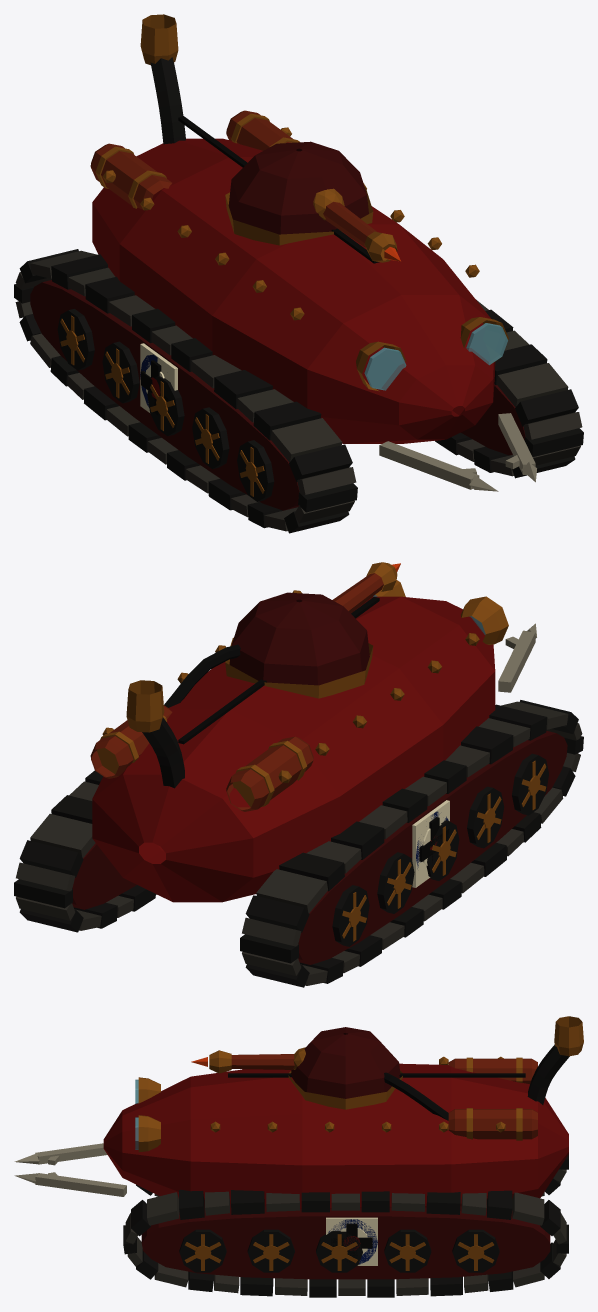
File: Escarabajo.obj
The picture shows the model from 3 angles, top to bottom: view 1: azimuth 30°, elevation 25°; view 2: azimuth 150°, elevation 25°; view 3: azimuth 270°, elevation 25°; orthographic projection. The views are drawn at different scales.
Visible parts, largest first — view 1: Cuerpo, Torreta, Rueda, Elevacion, Insignia_Cruz_N; view 2: Cuerpo, Torreta, Rueda, Insignia_Cruz_N, Elevacion; view 3: Cuerpo, Rueda, Torreta, Elevacion, Insignia_Cruz_N, Insignia_Escarapela.
Part boxes in pixels (x1,y1,x2,y2): Cuerpo: [14, 14, 583, 533]; Torreta: [225, 141, 373, 245]; Rueda: [57, 309, 274, 501]; Elevacion: [313, 188, 400, 262]; Insignia_Cruz_N: [140, 343, 177, 415]; Cuerpo: [14, 580, 583, 987]; Torreta: [225, 592, 373, 698]; Rueda: [332, 753, 548, 946]; Insignia_Cruz_N: [412, 800, 449, 887]; Elevacion: [332, 562, 400, 613]; Cuerpo: [14, 1016, 583, 1297]; Rueda: [179, 1229, 499, 1272]; Torreta: [288, 1027, 402, 1109]; Elevacion: [191, 1047, 305, 1073]; Insignia_Cruz_N: [326, 1217, 377, 1265]; Insignia_Escarapela: [328, 1219, 377, 1264].
Size of the model in its own units: 2.01 by 2.02 by 4.59.
